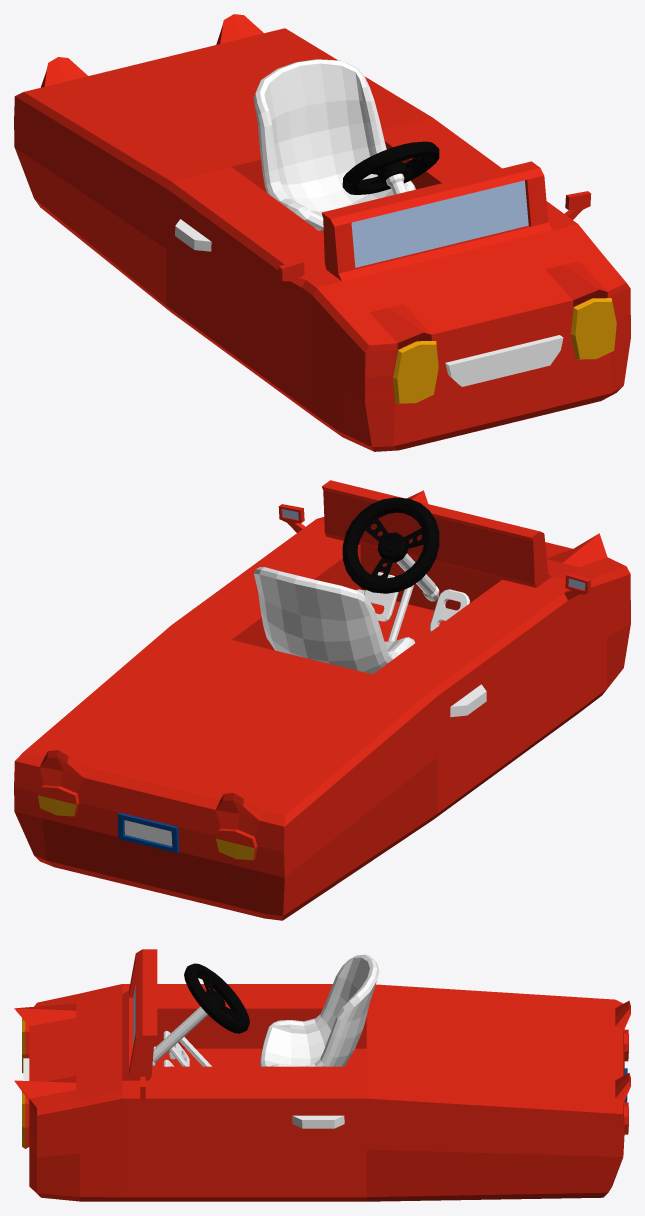
File: sedanmegamanxcat.fbx
The picture shows the model from 3 angles, top to bottom: view 1: azimuth 30°, elevation 25°; view 2: azimuth 150°, elevation 25°; view 3: azimuth 270°, elevation 25°; orthographic projection. The views are drawn at different scales.
Parts seen in each view (by area): view 1: Cube.002; view 2: Cube.002; view 3: Cube.002.
Part boxes in pixels (bbox=[...]): Cube.002: bbox=[14, 14, 630, 451]; Cube.002: bbox=[14, 480, 630, 920]; Cube.002: bbox=[14, 949, 630, 1201].
Size of the model in its own units: 136 by 90.69 by 279.
